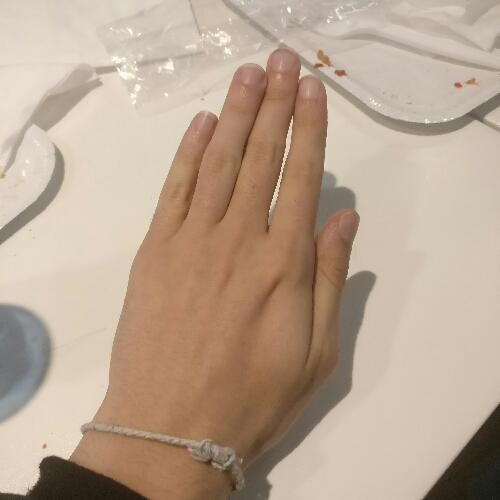paper: (105, 43, 363, 440)
